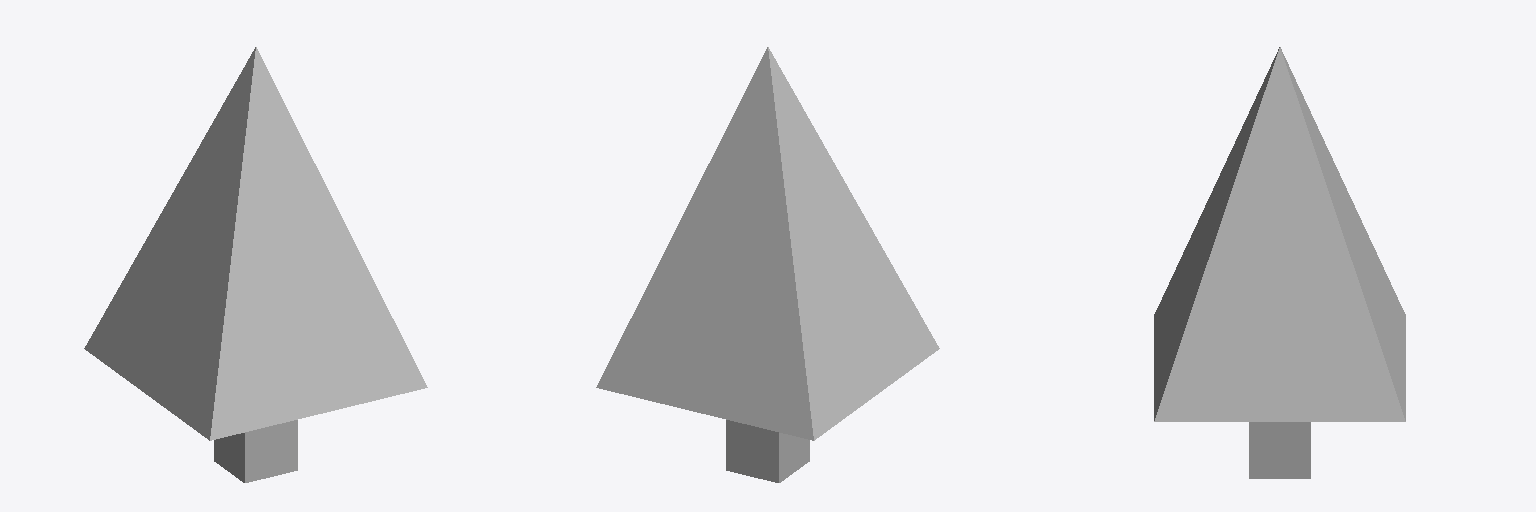
File: tree.obj
3 renders of one model, left to right at view 1: azimuth 30°, elevation 25°; view 2: azimuth 150°, elevation 25°; view 3: azimuth 270°, elevation 25°, orthographic.
Visible parts, largest first — view 1: Cube; view 2: Cube; view 3: Cube.
Part boxes in pixels (x1,y1,x2,y2): Cube: (84,47,427,482); Cube: (596,47,939,482); Cube: (1154,47,1405,478).
Bounding box in the file's own units: 2.01 × 3.69 × 2.01.